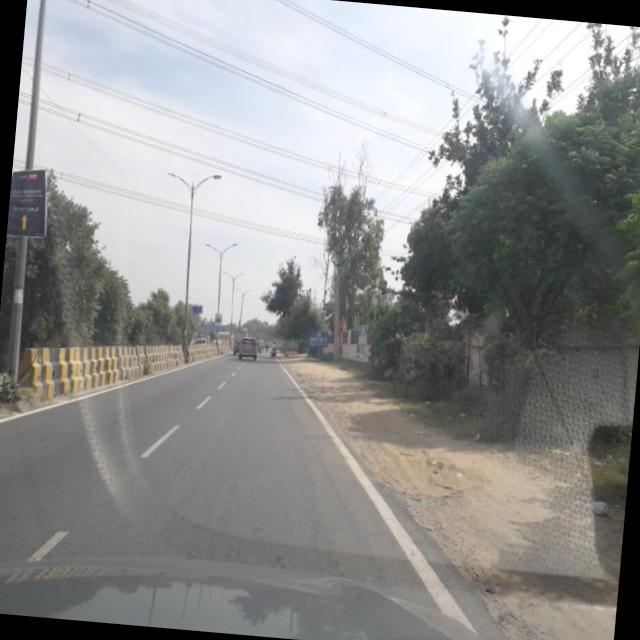pothole: (360, 446, 484, 510)
